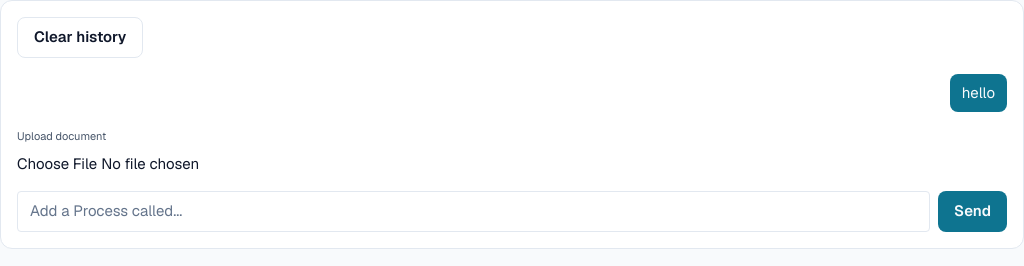
ChatPanel quick-start + clear-history (TASK-031 AC-8) › clears the conversation when the clear-history action is used
Expected: the list item "hello" is shown, [950,74,1007,112]
Click the button "Clear history" at {"x": 80, "y": 37}, box [17,17,143,58]
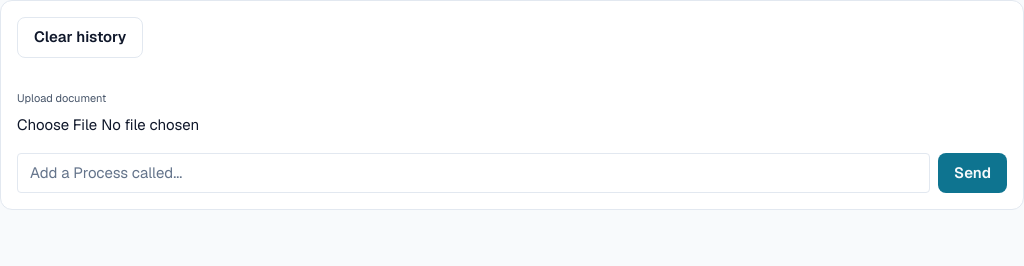
Now the list item "hello" is gone
